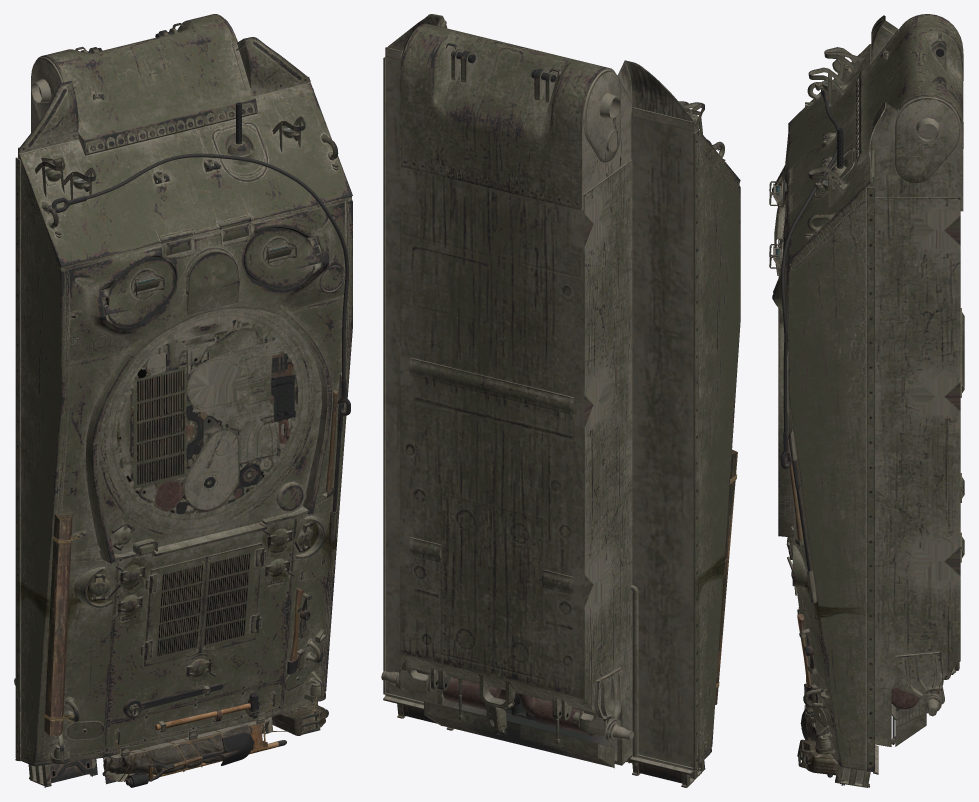
Rendered from Hull.glb.
3 renders of one model, left to right at view 1: azimuth 30°, elevation 25°; view 2: azimuth 150°, elevation 25°; view 3: azimuth 270°, elevation 25°, orthographic. The views are drawn at different scales.
Parts seen in each view (by area): view 1: set_0_group_0; view 2: set_0_group_0; view 3: set_0_group_0.
Part boxes in pixels (x1,y1,x2,y2): set_0_group_0: [14, 14, 352, 787]; set_0_group_0: [381, 14, 740, 787]; set_0_group_0: [769, 14, 964, 787].
Bounding box in the file's own units: 2.65 × 6.02 × 1.57.
Materials: 1 (1 with a texture image).
